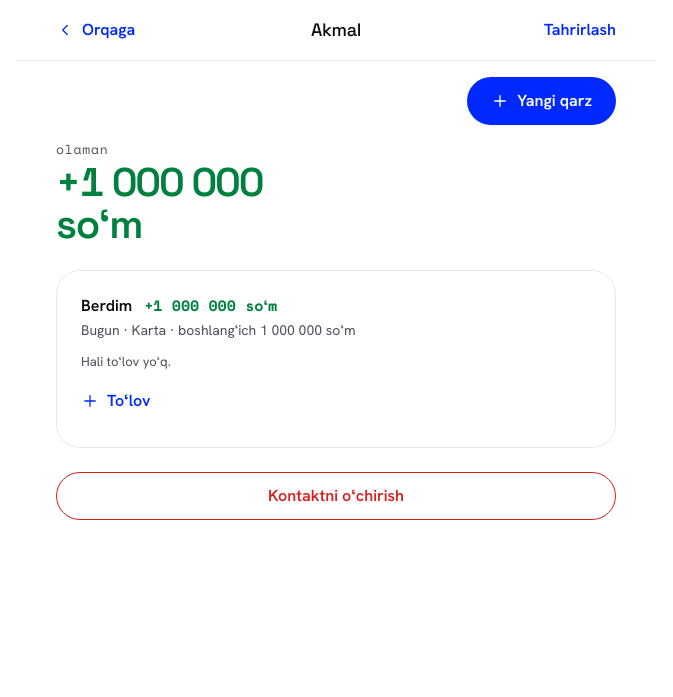
Test: kontaktni tahrirlash (0060; mezon 23, 24, 25, 26) › blokdan tashqariga tegilsa blok yopiladi va oʻzgartirilgani unutiladi
This screenshot has width=673, height=697.
Click the button "Tahrirlash". click: (580, 30)
box: top-left (544, 8), bottom-right (616, 52)
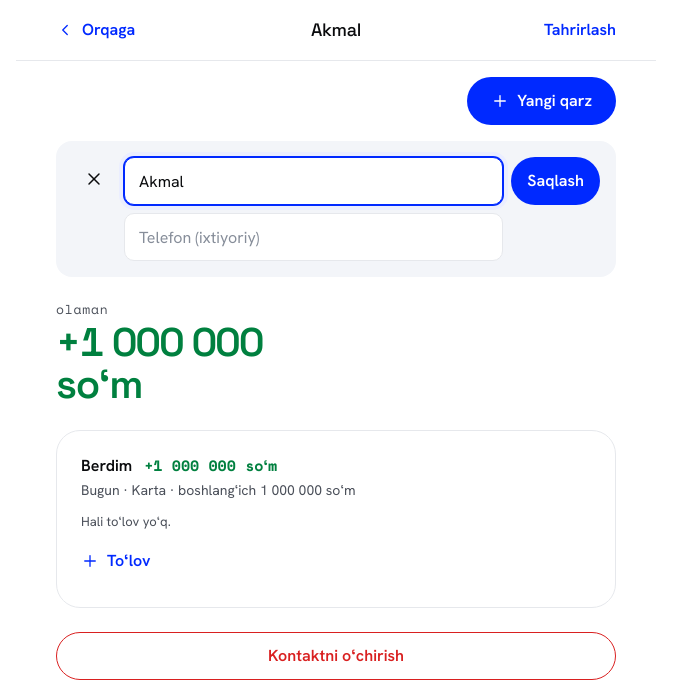
Type " aka" into the field named "Ism". click: (314, 181)
box: top-left (124, 157), bottom-right (503, 205)
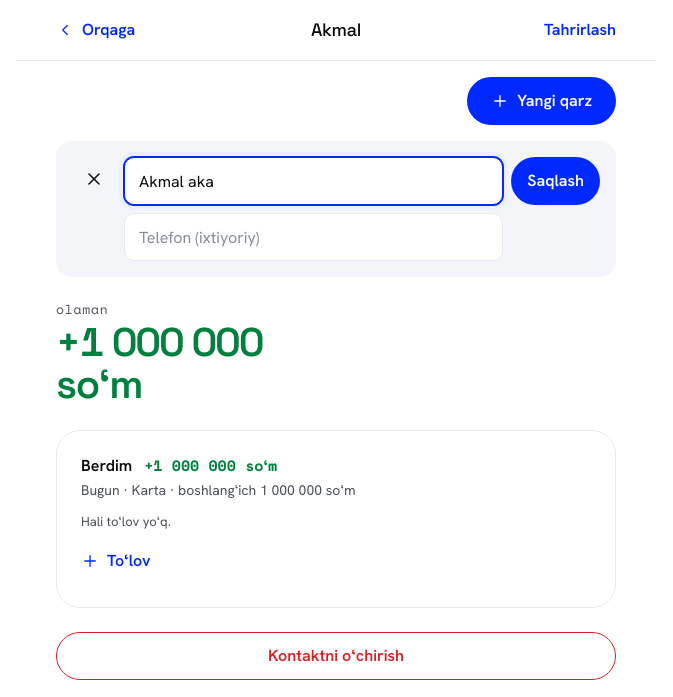
Click the text "Hali toʻlov yoʻq.". click: (126, 521)
box: top-left (81, 513), bottom-right (171, 530)
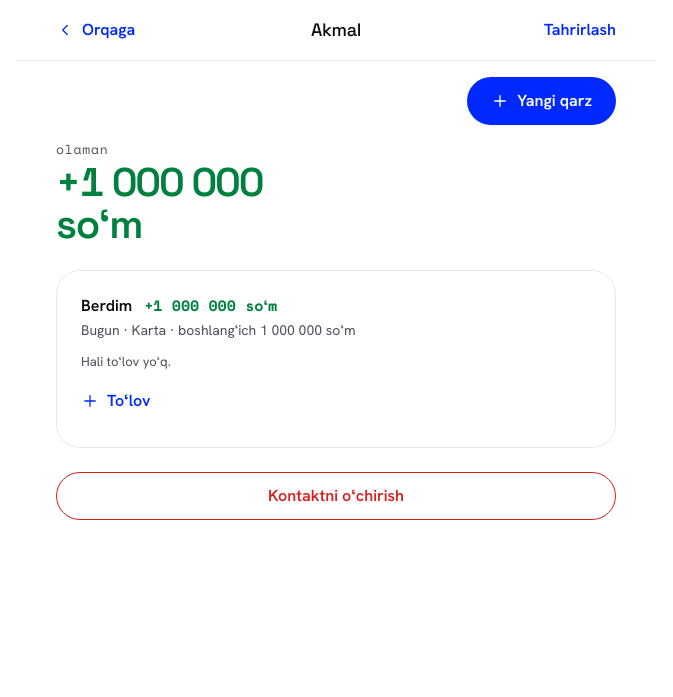
Check: the field labelled "Ism" is gone
